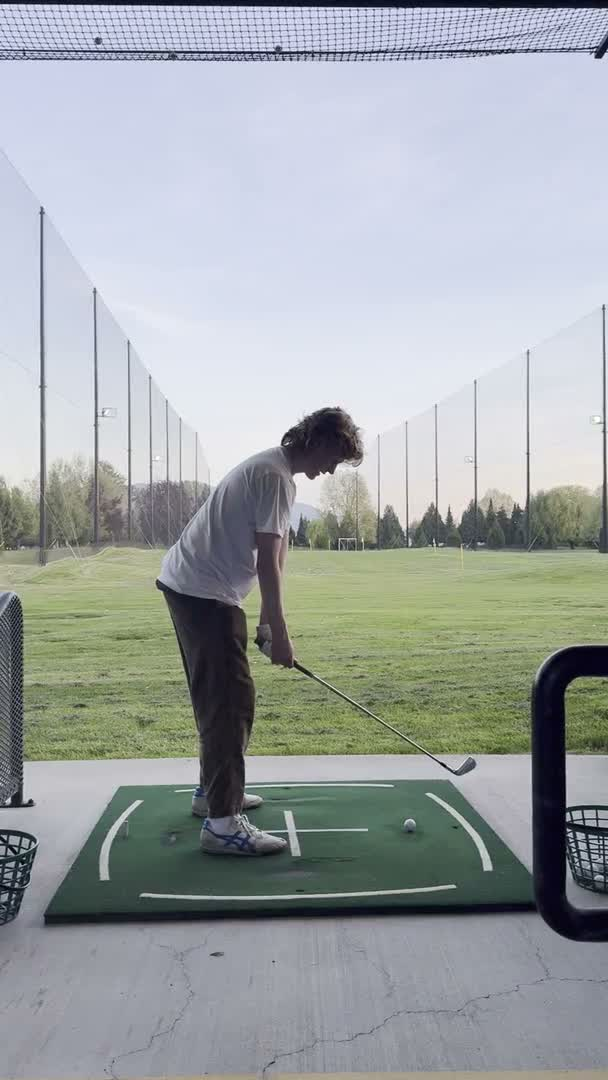Golf Ball: (399, 816, 420, 831)
